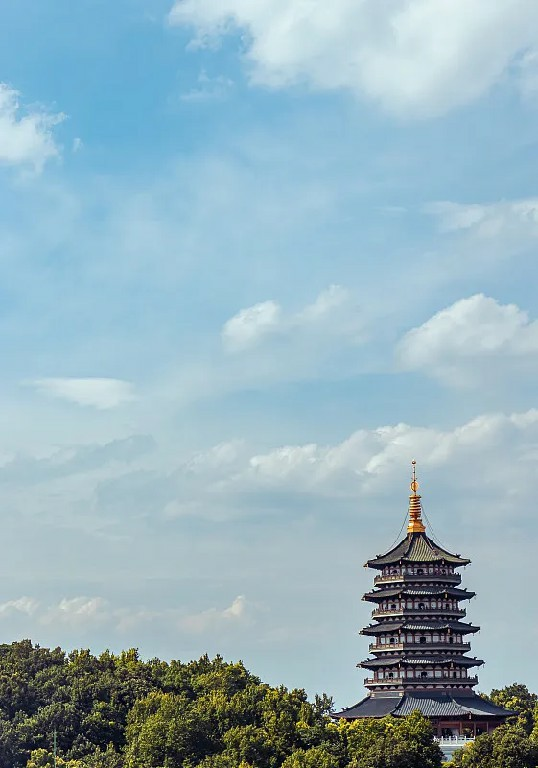Leifeng: (331, 457, 517, 741)
